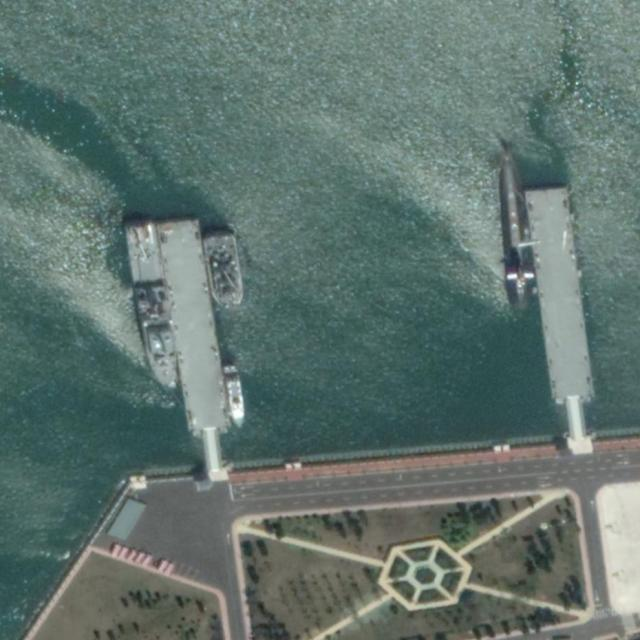Other Warship: (123, 217, 184, 395), (202, 228, 247, 311), (222, 363, 248, 431)
Submarine: (491, 154, 538, 311)
